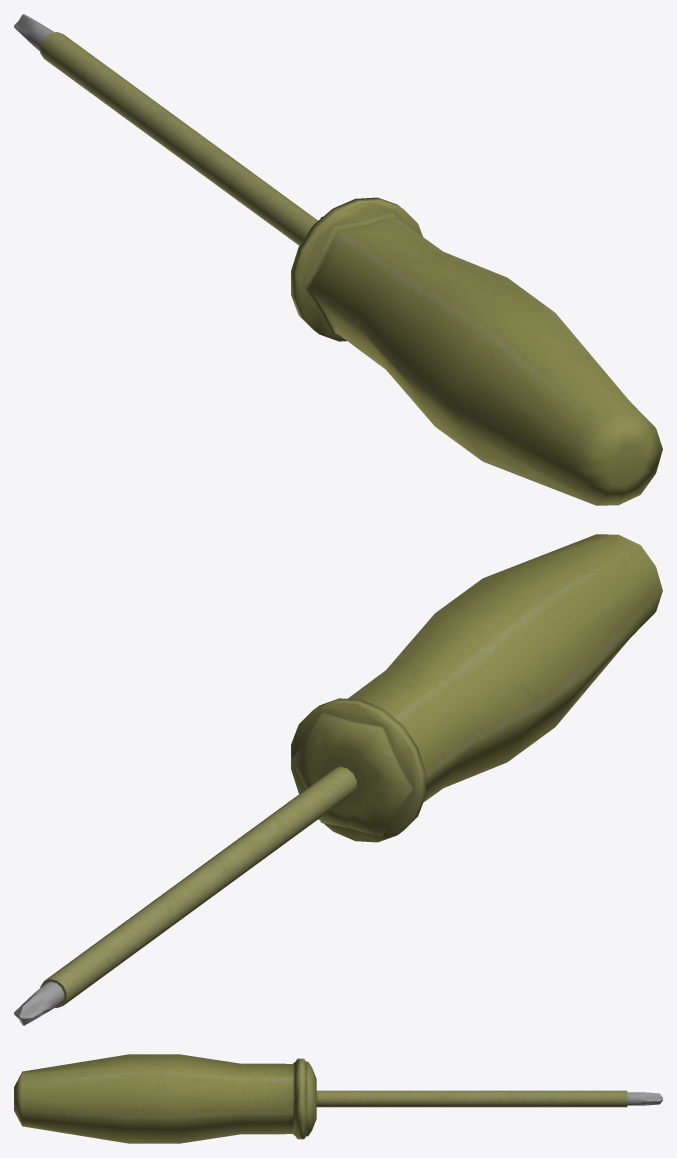
The model's file is screwdriver.fbx.
3 renders of one model, top to bottom at view 1: azimuth 30°, elevation 25°; view 2: azimuth 150°, elevation 25°; view 3: azimuth 270°, elevation 25°, orthographic. The views are drawn at different scales.
Parts seen in each view (by area): view 1: turnscrew_Tools_0; view 2: turnscrew_Tools_0; view 3: turnscrew_Tools_0.
Part boxes in pixels (x1,y1,x2,y2): turnscrew_Tools_0: [14, 14, 662, 505]; turnscrew_Tools_0: [14, 534, 662, 1025]; turnscrew_Tools_0: [14, 1054, 662, 1143].
Bounding box in the file's own units: 303 × 274 × 2196.
1 material, 1 textured.
